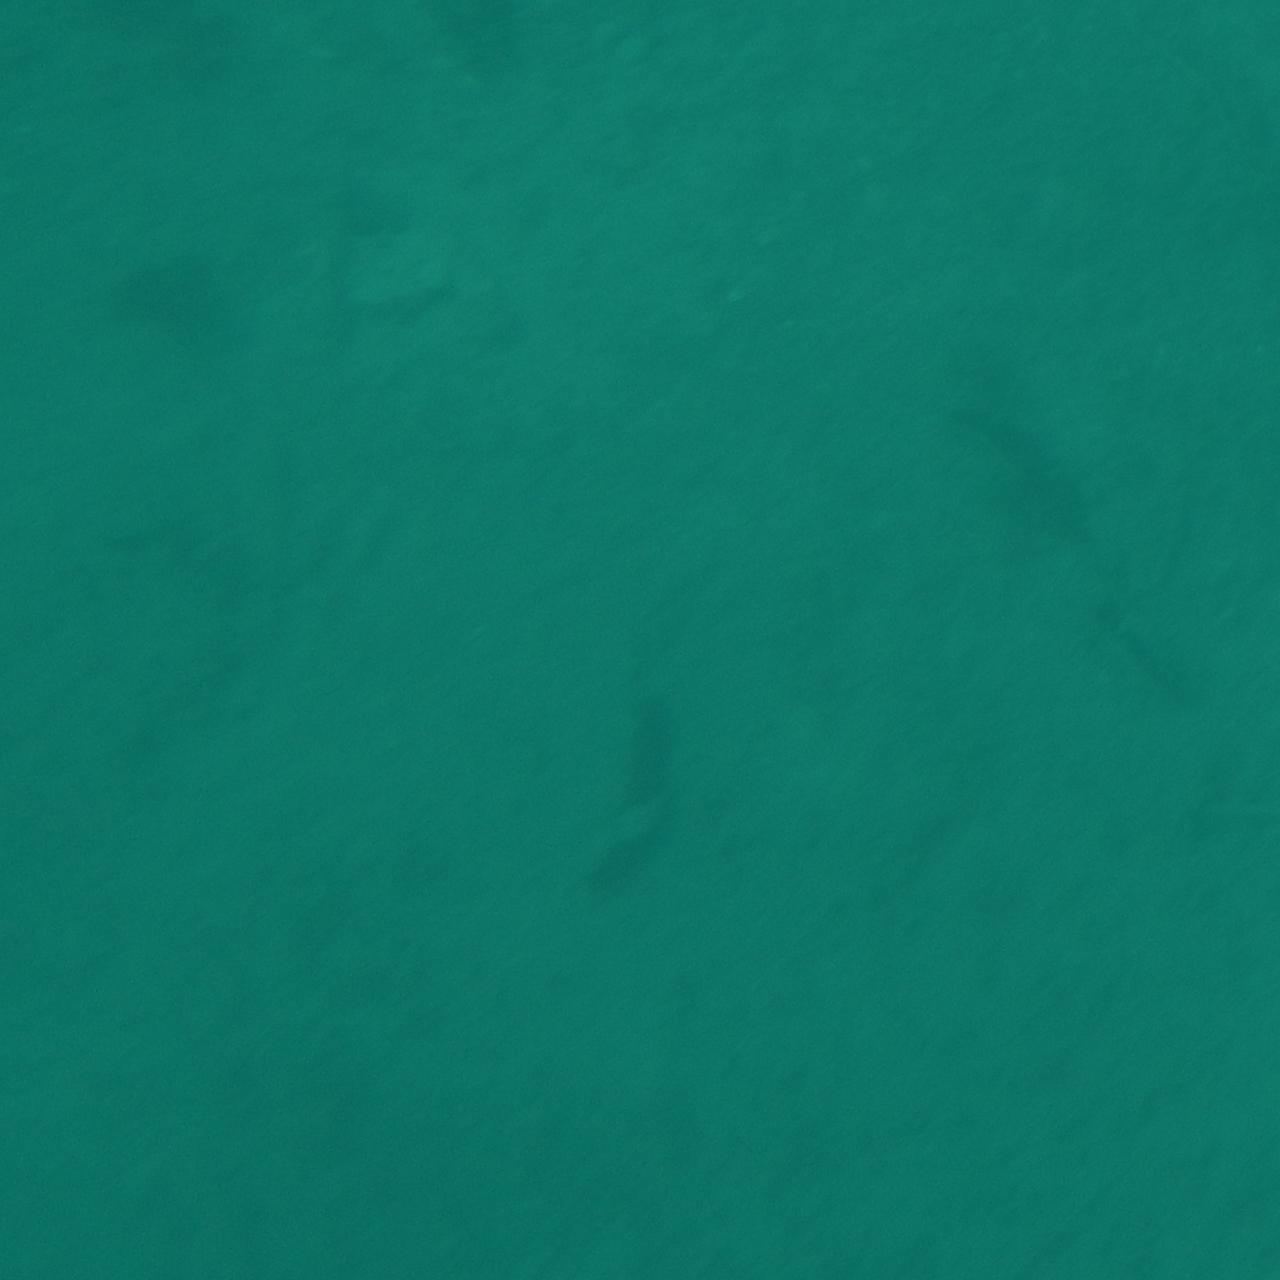Holothuria tubulosa: (556, 685, 710, 932)
